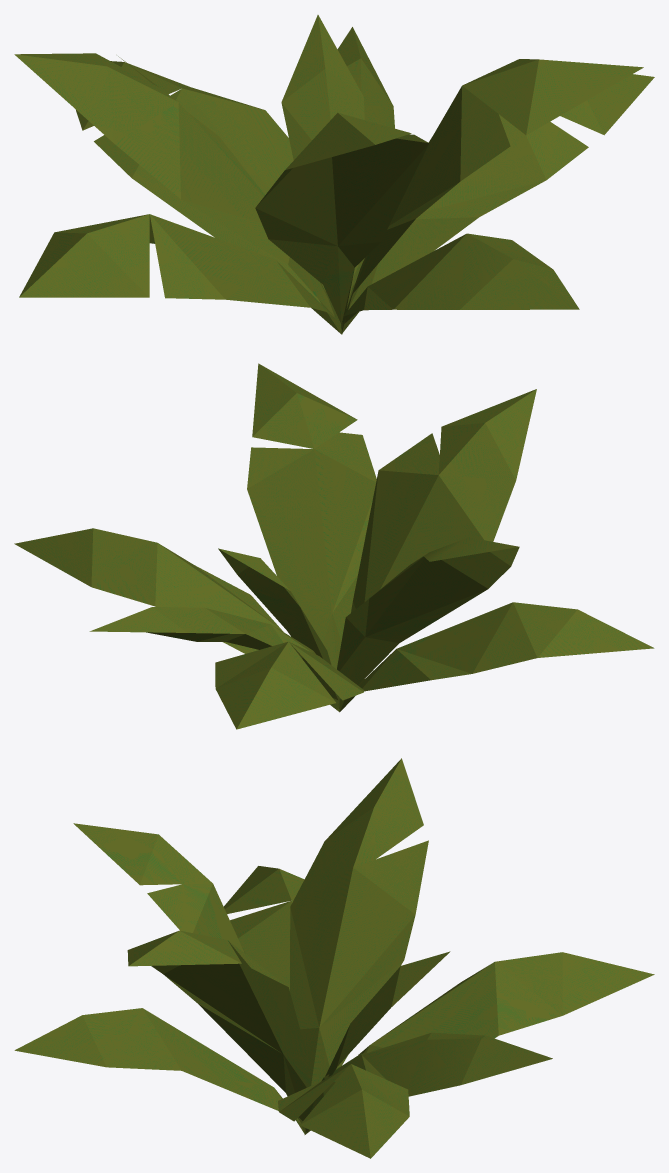
The model's file is Plant_04.fbx.
The picture shows the model from 3 angles, top to bottom: view 1: azimuth 30°, elevation 25°; view 2: azimuth 150°, elevation 25°; view 3: azimuth 270°, elevation 25°; orthographic projection. The views are drawn at different scales.
Visible parts, largest first — view 1: polySurface161; view 2: polySurface161; view 3: polySurface161.
Part boxes in pixels (<box>): polySurface161: <box>14,15,654,334</box>; polySurface161: <box>14,363,654,729</box>; polySurface161: <box>14,758,654,1158</box>.
Size of the model in its own units: 216 by 92.29 by 199.
